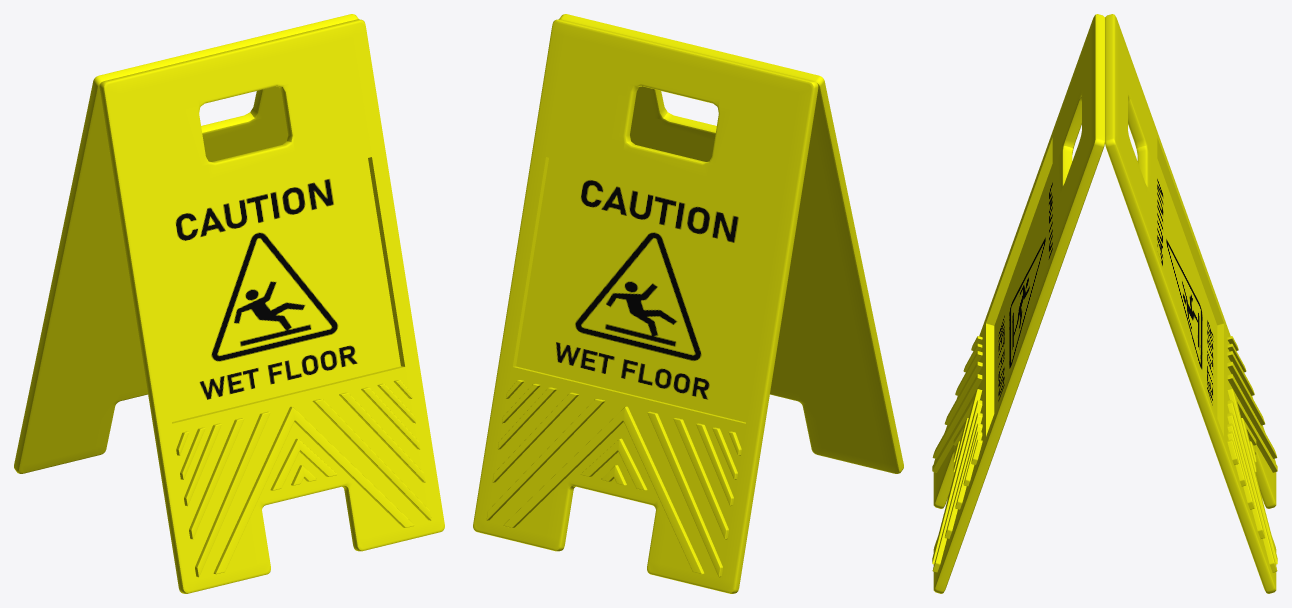
The model's file is Safety signal.obj.
3 views of the same model, side by side, from view 1: azimuth 30°, elevation 25°; view 2: azimuth 150°, elevation 25°; view 3: azimuth 270°, elevation 25° (orthographic).
Visible parts, largest first — view 1: Safety_signal; view 2: Safety_signal; view 3: Safety_signal.
Boxes of the visible parts, <box> form: Safety_signal: <box>14,14,444,593</box>; Safety_signal: <box>473,14,903,593</box>; Safety_signal: <box>932,14,1277,593</box>.
Bounding box in the file's own units: 13.28 × 21.94 × 15.1.
